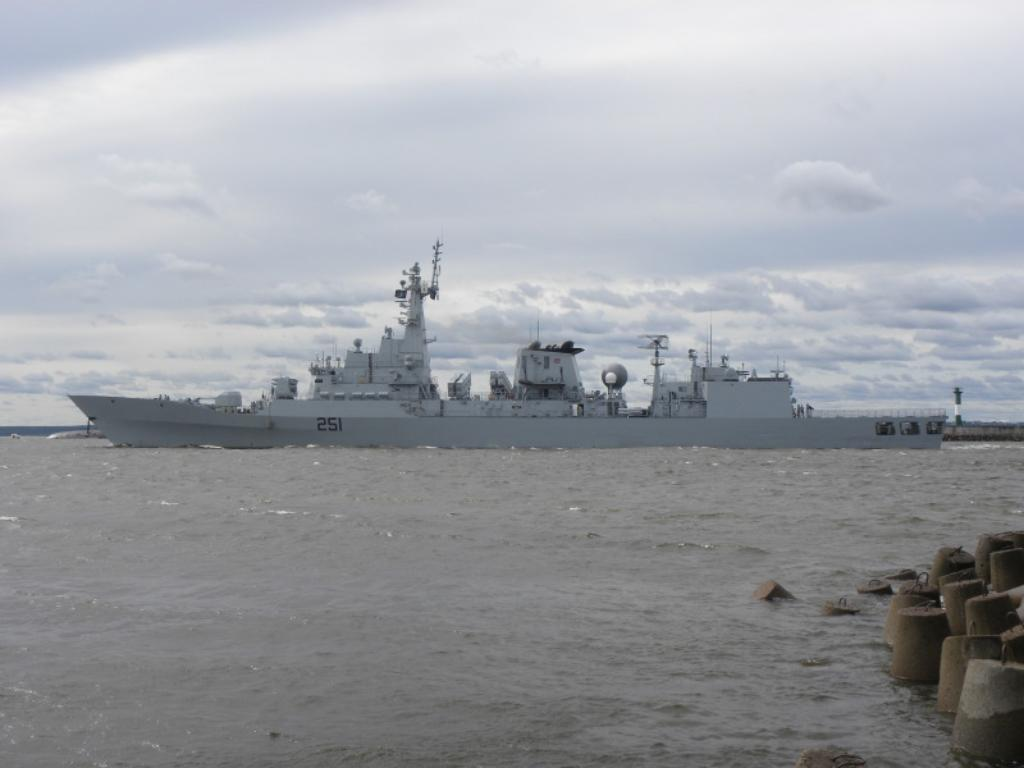Warship: (60, 234, 958, 462)
